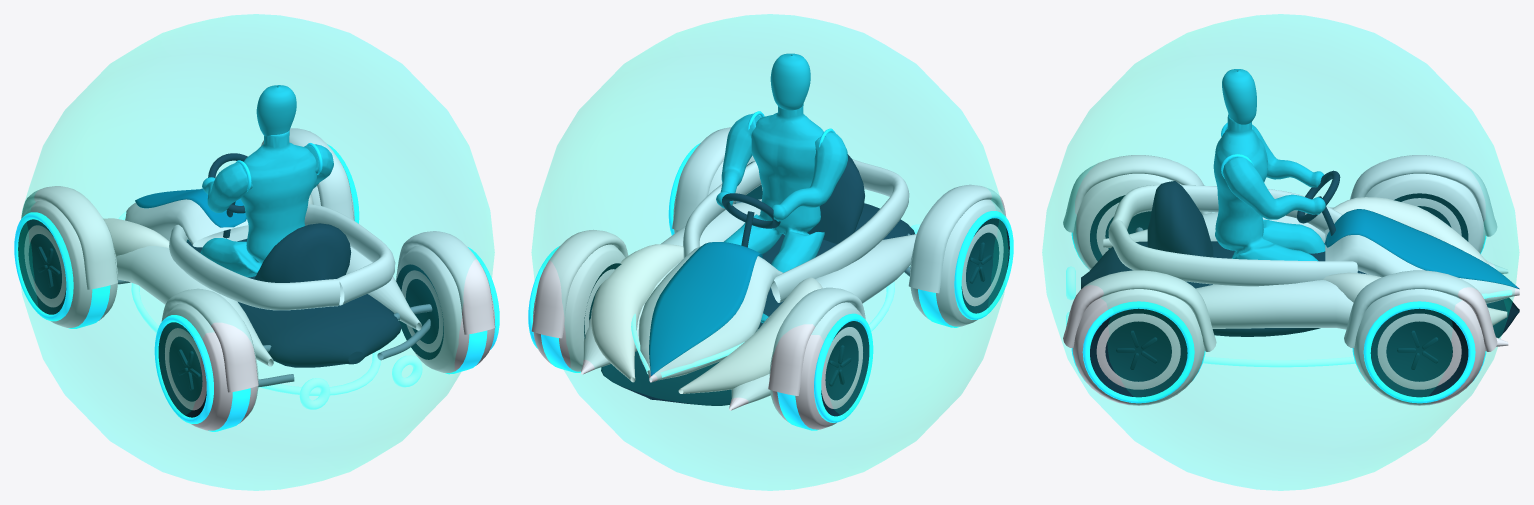
The model's file is zenflow.glb.
3 views of the same model, side by side, from view 1: azimuth 30°, elevation 25°; view 2: azimuth 150°, elevation 25°; view 3: azimuth 270°, elevation 25° (orthographic).
Parts seen in each view (by area): view 1: zenflow:aegis-shield, zenflow:coachwork-batch.001, zenflow:coachwork-batch, zenflow:torso, zenflow:rounded-wheel-shell.003, zenflow:rounded-wheel-shell.002, zenflow:rounded-wheel-shell, zenflow:recessed-colored-hub.002, zenflow:recessed-colored-hub, zenflow:recessed-colored-hub.003, zenflow:head-mesh, zenflow:wheel-light-ring (+12 smaller); view 2: zenflow:aegis-shield, zenflow:coachwork-batch.001, zenflow:torso, zenflow:bonnet-enamel-inlay, zenflow:sculpted-front-fairing-1, zenflow:coachwork-batch, zenflow:sculpted-front-fairing--1, zenflow:rounded-wheel-shell, zenflow:rounded-wheel-shell.002, zenflow:rounded-wheel-shell.001, zenflow:arm-l-mesh, zenflow:front-undertray-diffuser (+10 smaller); view 3: zenflow:aegis-shield, zenflow:coachwork-batch.001, zenflow:torso, zenflow:coachwork-batch, zenflow:rounded-wheel-shell.001, zenflow:rounded-wheel-shell.003, zenflow:bonnet-enamel-inlay, zenflow:recessed-colored-hub.003, zenflow:recessed-colored-hub.001, zenflow:rounded-wheel-shell, zenflow:rounded-wheel-shell.002, zenflow:arm-r-mesh (+11 smaller).
Part boxes in pixels (<box>): zenflow:aegis-shield: <box>17,14,494,490</box>; zenflow:coachwork-batch.001: <box>21,128,495,392</box>; zenflow:coachwork-batch: <box>186,201,401,367</box>; zenflow:torso: <box>200,130,316,277</box>; zenflow:rounded-wheel-shell.003: <box>396,246,494,372</box>; zenflow:rounded-wheel-shell.002: <box>165,303,258,430</box>; zenflow:rounded-wheel-shell: <box>24,200,117,327</box>; zenflow:recessed-colored-hub.002: <box>158,322,206,417</box>; zenflow:recessed-colored-hub: <box>18,219,66,314</box>; zenflow:recessed-colored-hub.003: <box>396,264,443,359</box>; zenflow:head-mesh: <box>256,85,296,136</box>; zenflow:wheel-light-ring: <box>14,212,73,321</box>; zenflow:aegis-shield: <box>531,14,1008,490</box>; zenflow:coachwork-batch.001: <box>531,127,1006,410</box>; zenflow:torso: <box>723,104,824,322</box>; zenflow:bonnet-enamel-inlay: <box>649,242,762,376</box>; zenflow:sculpted-front-fairing-1: <box>591,244,683,382</box>; zenflow:coachwork-batch: <box>741,154,914,328</box>; zenflow:sculpted-front-fairing--1: <box>678,277,822,393</box>; zenflow:rounded-wheel-shell: <box>769,302,862,429</box>; zenflow:rounded-wheel-shell.002: <box>910,199,1003,326</box>; zenflow:rounded-wheel-shell.001: <box>533,244,625,371</box>; zenflow:arm-l-mesh: <box>771,132,847,221</box>; zenflow:front-undertray-diffuser: <box>601,351,731,405</box>; zenflow:aegis-shield: <box>1042,14,1519,490</box>; zenflow:coachwork-batch.001: <box>1063,155,1519,351</box>; zenflow:torso: <box>1213,114,1325,261</box>; zenflow:coachwork-batch: <box>1081,181,1366,336</box>; zenflow:rounded-wheel-shell.001: <box>1353,289,1485,405</box>; zenflow:rounded-wheel-shell.003: <box>1072,289,1204,405</box>; zenflow:bonnet-enamel-inlay: <box>1325,209,1519,289</box>; zenflow:recessed-colored-hub.003: <box>1090,308,1187,397</box>; zenflow:recessed-colored-hub.001: <box>1370,308,1468,397</box>; zenflow:rounded-wheel-shell: <box>1365,173,1485,253</box>; zenflow:rounded-wheel-shell.002: <box>1072,173,1181,270</box>; zenflow:arm-r-mesh: <box>1223,157,1325,219</box>.
Size of the model in its own units: 4.3 by 4.3 by 4.3.
